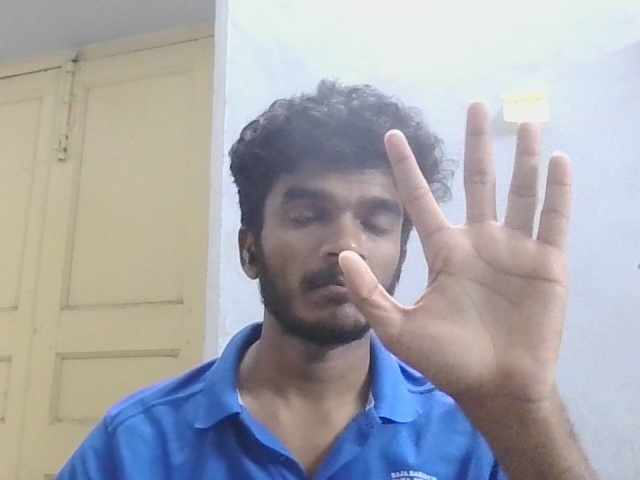Hello: (329, 85, 594, 427)
